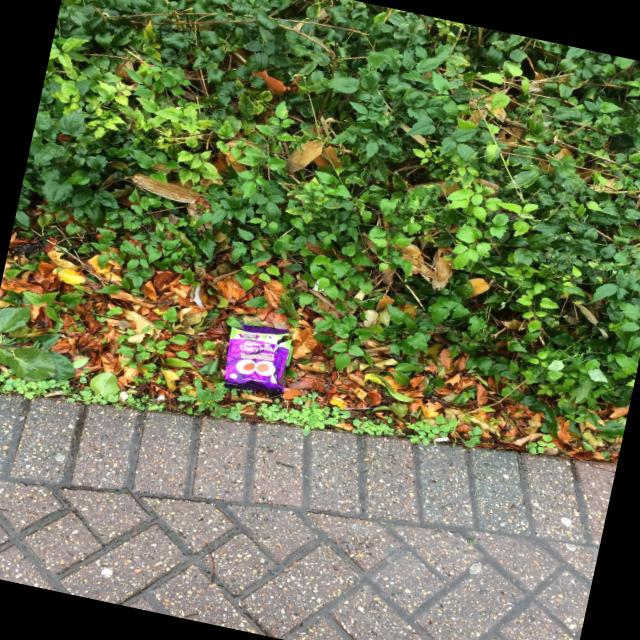less trash: (223, 324, 291, 395)
